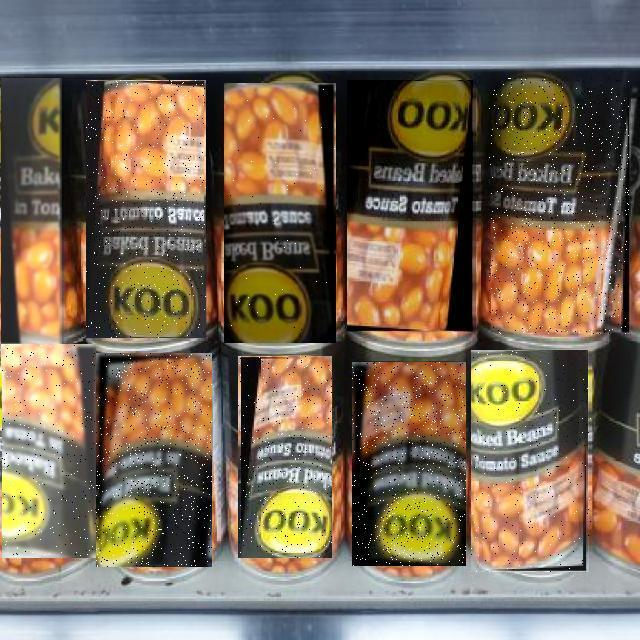Beans: (489, 78, 629, 334), (348, 80, 476, 332), (86, 80, 206, 338), (224, 83, 336, 343), (472, 351, 592, 573), (97, 353, 213, 567), (352, 362, 466, 566), (2, 344, 96, 558), (239, 356, 333, 558), (2, 79, 64, 367)
